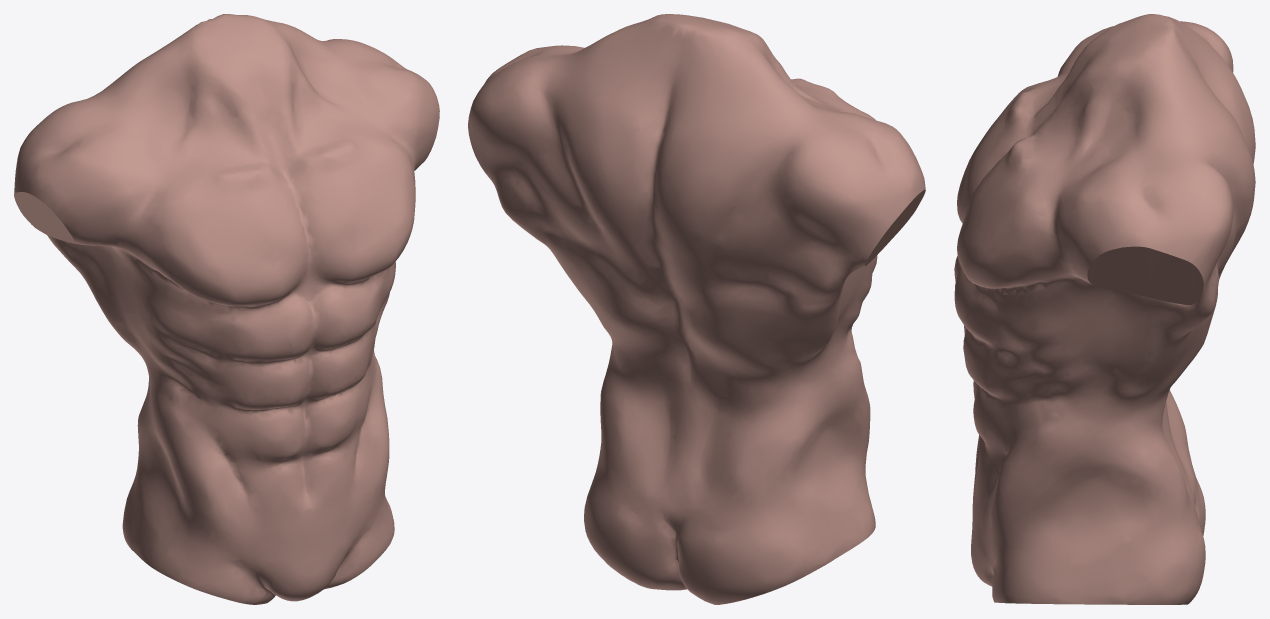
File: realchest.fbx
3 views of the same model, side by side, from view 1: azimuth 30°, elevation 25°; view 2: azimuth 150°, elevation 25°; view 3: azimuth 270°, elevation 25° (orthographic). The views are drawn at different scales.
Parts seen in each view (by area): view 1: Chest Study; view 2: Chest Study; view 3: Chest Study.
Part boxes in pixels (<box>): Chest Study: <box>14,14,439,604</box>; Chest Study: <box>468,14,925,604</box>; Chest Study: <box>954,14,1255,604</box>.
Size of the model in its own units: 1146 by 1476 by 703.
